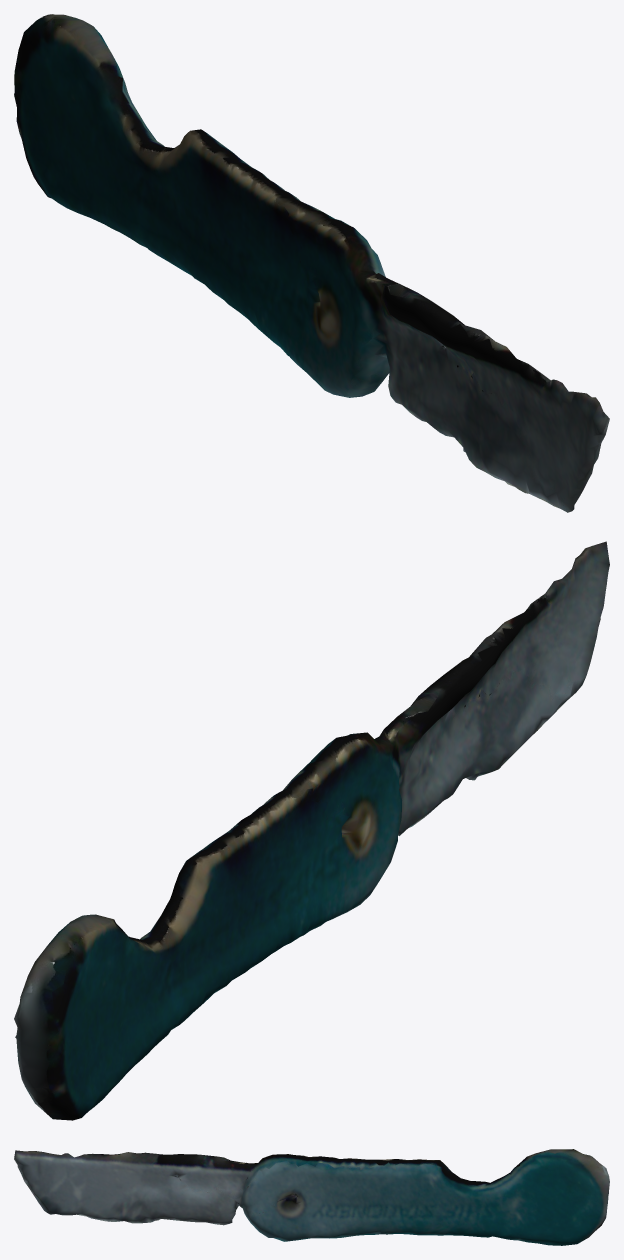
File: scan_align.obj
The picture shows the model from 3 angles, top to bottom: view 1: azimuth 30°, elevation 25°; view 2: azimuth 150°, elevation 25°; view 3: azimuth 270°, elevation 25°; orthographic projection. The views are drawn at different scales.
Bounding box in the file's own units: 0.00496 × 0.021 × 0.1192.
Materials: 1 (1 with a texture image).
